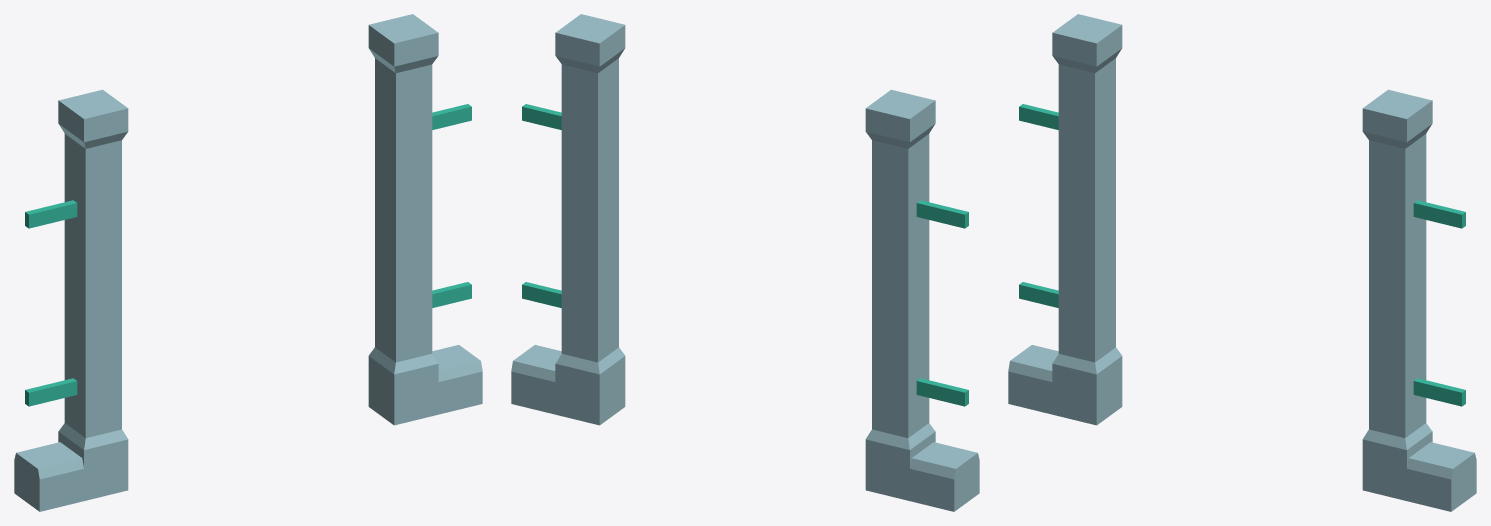
Rendered from ironFenceBorderGate.fbx.
The picture shows the model from 3 angles, left to right: view 1: azimuth 30°, elevation 25°; view 2: azimuth 150°, elevation 25°; view 3: azimuth 330°, elevation 25°; orthographic projection.
Visible parts, largest first — view 1: ironFenceBorderGate; view 2: ironFenceBorderGate; view 3: ironFenceBorderGate.
Boxes of the visible parts, left/top/right/bottom form: ironFenceBorderGate: left=14, top=14, right=482, bottom=511; ironFenceBorderGate: left=511, top=14, right=979, bottom=511; ironFenceBorderGate: left=1008, top=14, right=1476, bottom=511.
Size of the model in its own units: 10 by 8.24 by 1.
